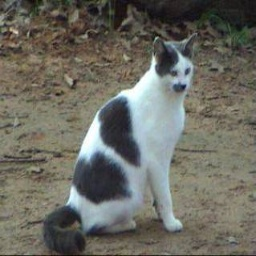cat: (48, 35, 192, 250)
